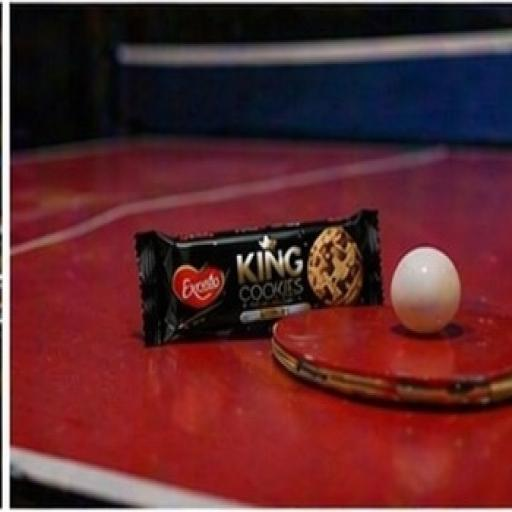king_cooking: (101, 147, 429, 383)
